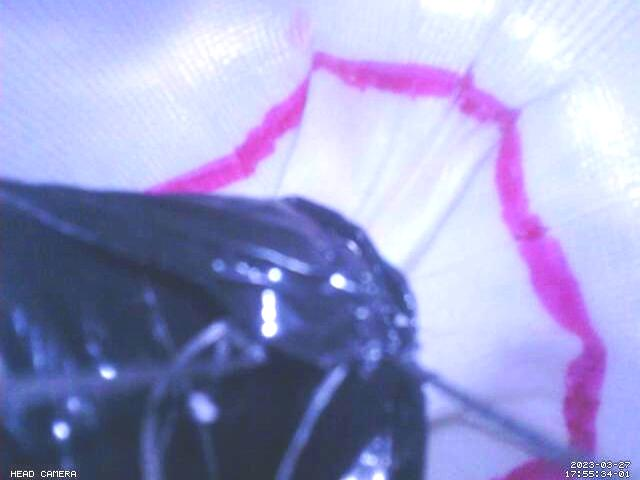red-circle: (143, 49, 608, 480)
